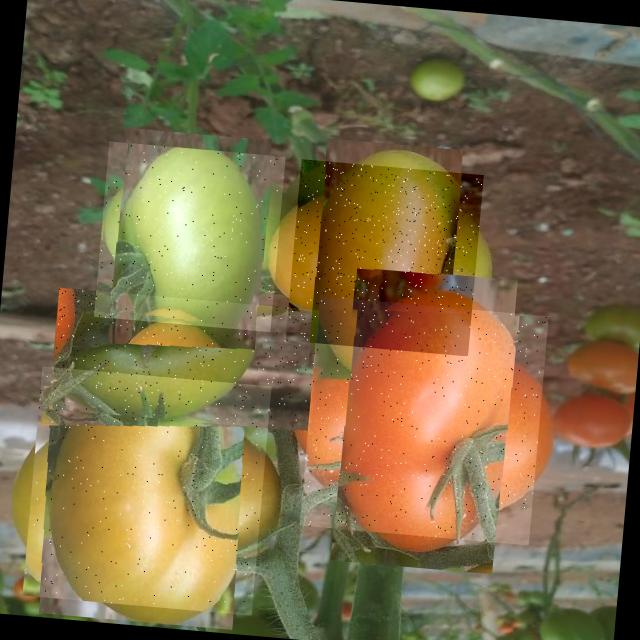Ripe Tomato: (299, 296, 548, 545)
Unripe Tomato: (22, 366, 271, 615), (48, 288, 319, 432), (285, 159, 483, 356), (94, 141, 286, 332)
